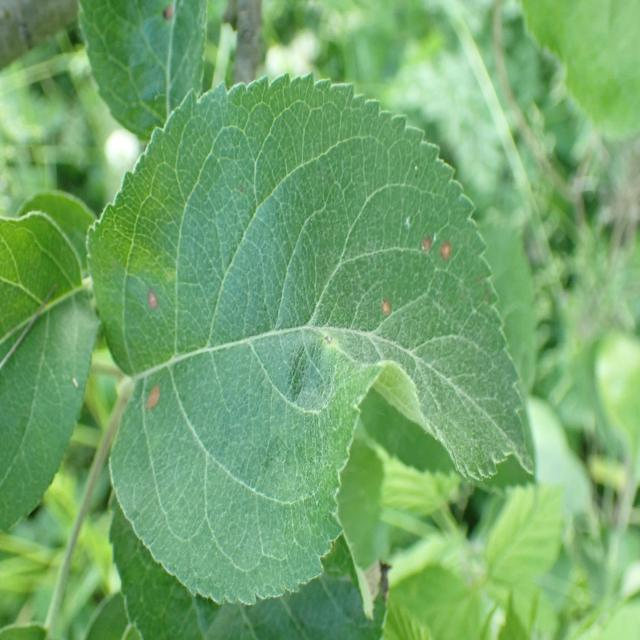Black Rot: (126, 375, 185, 419), (419, 205, 451, 285), (365, 287, 400, 351), (121, 282, 170, 322)
